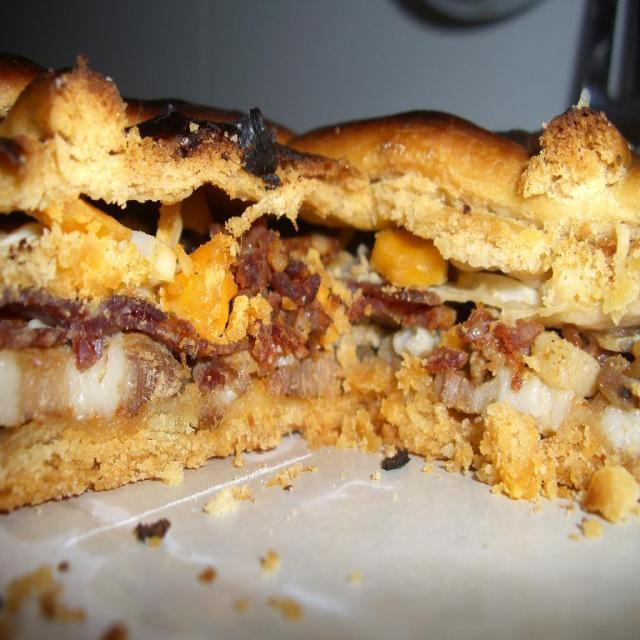Sandwich: (0, 50, 639, 535)
